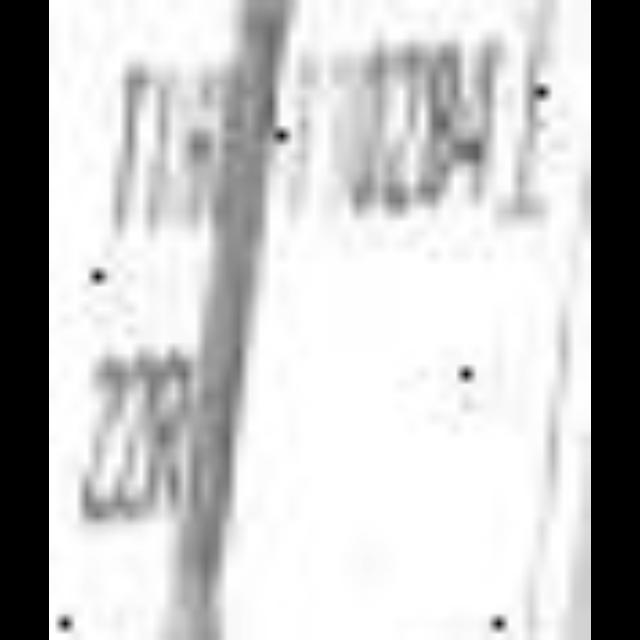2: (77, 337, 126, 521), (124, 330, 162, 522), (389, 24, 425, 220), (361, 42, 399, 218)
4: (456, 32, 506, 220)
8: (421, 31, 463, 222)
r: (158, 322, 200, 524)
t: (92, 39, 148, 247)
